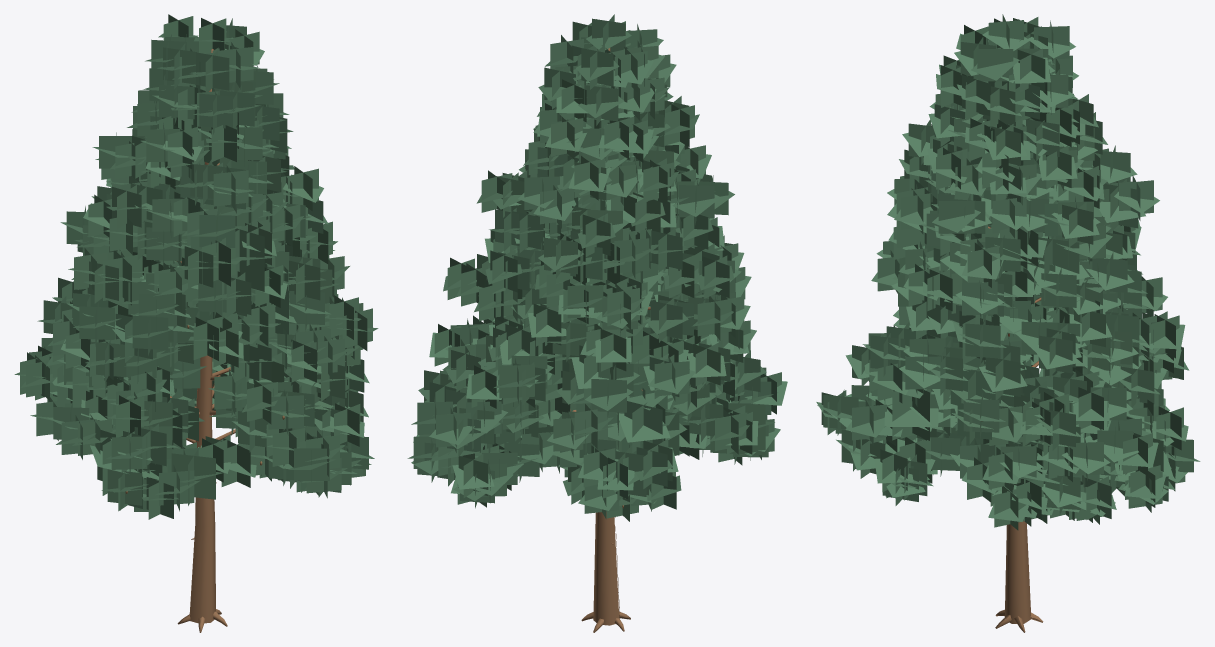
The model's file is pin_2_jeu.glb.
3 renders of one model, left to right at view 1: azimuth 30°, elevation 25°; view 2: azimuth 150°, elevation 25°; view 3: azimuth 270°, elevation 25°, orthographic.
Visible parts, largest first — view 1: Pin_T2_Leger; view 2: Pin_T2_Leger; view 3: Pin_T2_Leger.
Boxes of the visible parts, x1,y1,x2,y2 form: Pin_T2_Leger: (14,14,378,632); Pin_T2_Leger: (407,14,787,632); Pin_T2_Leger: (816,14,1200,632).
Size of the model in its own units: 6.24 by 11.57 by 6.69.
